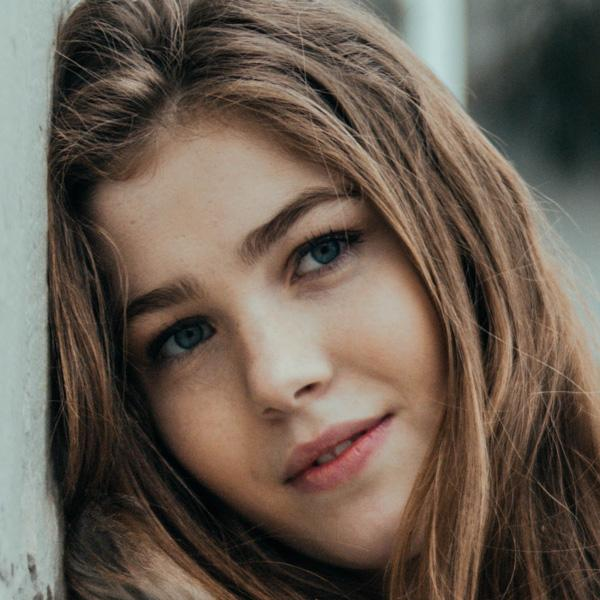Eyes: (281, 215, 377, 294), (139, 306, 224, 374)
